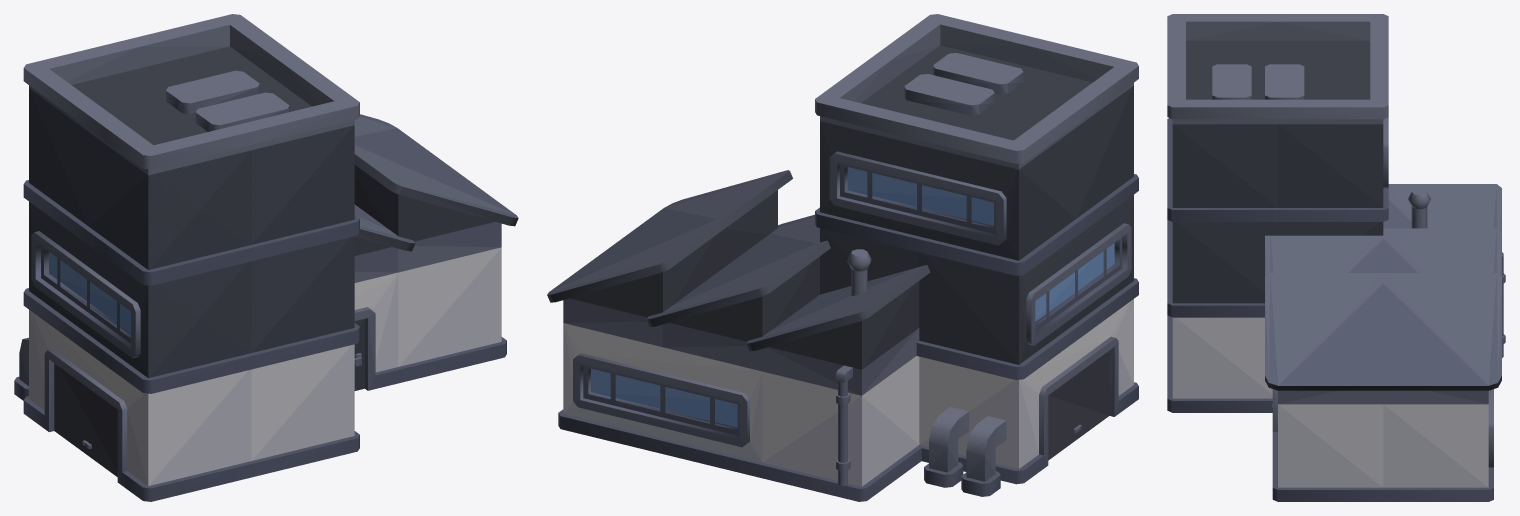
Rendered from ind_g.glb.
The picture shows the model from 3 angles, left to right: view 1: azimuth 30°, elevation 25°; view 2: azimuth 150°, elevation 25°; view 3: azimuth 270°, elevation 25°; orthographic projection. The views are drawn at different scales.
Parts seen in each view (by area): view 1: building-g; view 2: building-g; view 3: building-g.
Boxes of the visible parts, bbox=[...] form: building-g: bbox=[14, 14, 518, 501]; building-g: bbox=[547, 14, 1138, 501]; building-g: bbox=[1167, 14, 1505, 501].
Bounding box in the file's own units: 1.68 × 1.28 × 1.28.
